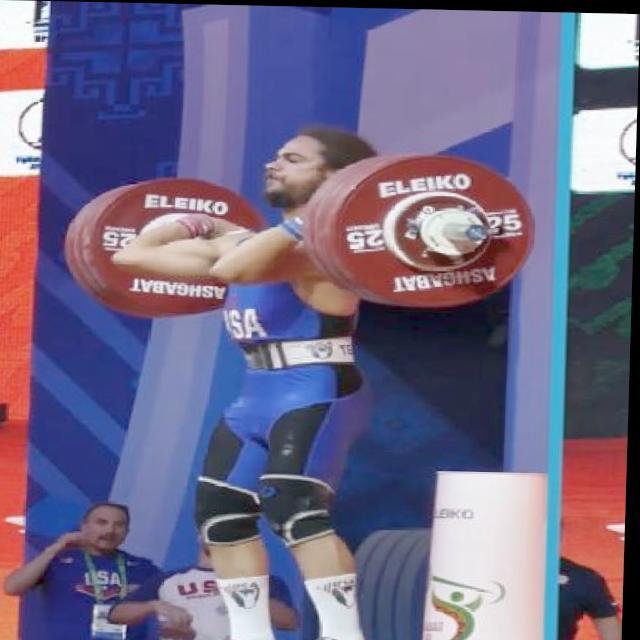barbell: (331, 148, 546, 316)
